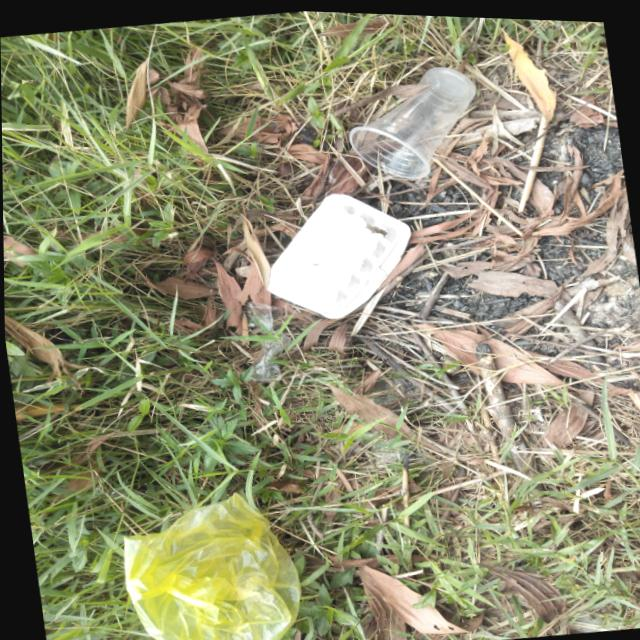Cardboard: (236, 173, 426, 339)
Plastic: (96, 466, 317, 640), (330, 47, 499, 200)
